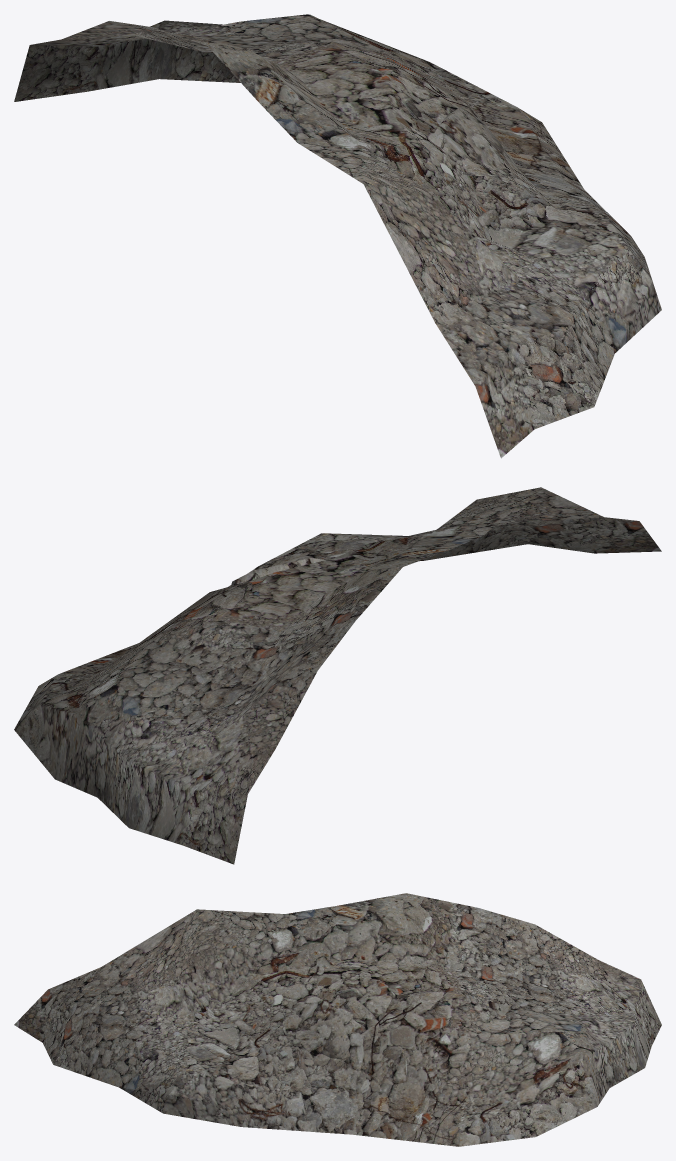
File: RuinsMidPile.fbx
3 views of the same model, one above another, from view 1: azimuth 30°, elevation 25°; view 2: azimuth 150°, elevation 25°; view 3: azimuth 270°, elevation 25° (orthographic). The views are drawn at different scales.
Visible parts, largest first — view 1: mesh_0.2344; view 2: mesh_0.2344; view 3: mesh_0.2344.
Part boxes in pixels (x1,y1,x2,y2): mesh_0.2344: (14,14,661,458); mesh_0.2344: (14,487,661,864); mesh_0.2344: (14,893,661,1146).
Size of the model in its own units: 1.12 by 0.5645 by 2.51.
